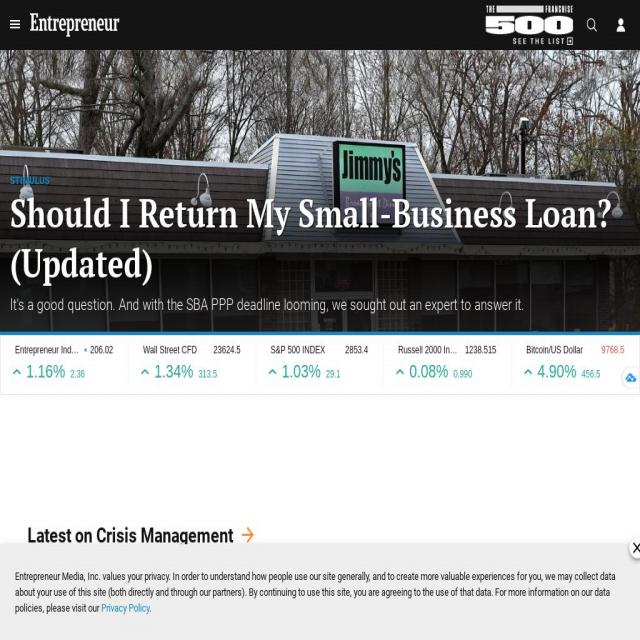login-option: (610, 13, 631, 40)
options: (5, 12, 24, 38)
search: (585, 15, 603, 40)
